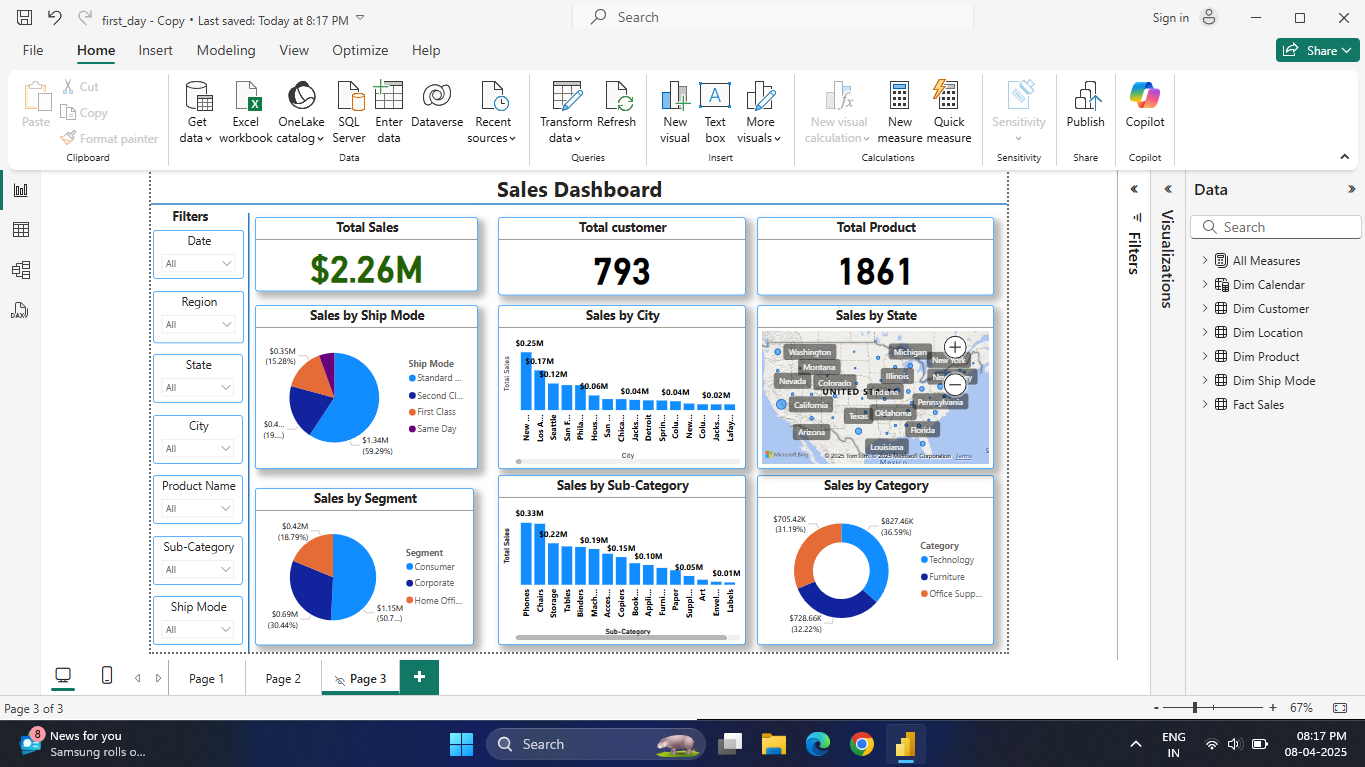

This screenshot's page, from the dashboard's own definition file:
{"tool":"powerbi","page":{"name":"Page 3","canvas":[1280,720],"ordinal":2},"visuals":[{"type":"shape","box":[0,44.8,1280,12],"z":0},{"type":"textbox","box":[481.9,0,316.2,57.8],"z":1000},{"type":"shape","box":[136.8,64.4,17.2,656.3],"z":2000},{"type":"textbox","box":[26.9,50.8,91.1,38.8],"z":3000},{"type":"slicer","title":"Date","fields":{"Values":["Dim Calendar.Year","Dim Calendar.Quarter"]},"box":[3,89.6,135.9,73.2],"z":4000},{"type":"slicer","title":"Region","fields":{"Values":["Dim Location.Region"]},"box":[3,180,135.9,77.7],"z":5000},{"type":"slicer","title":"State","fields":{"Values":["Dim Location.State"]},"box":[3,274.9,134.4,73.2],"z":6000},{"type":"slicer","title":"Product Name","fields":{"Values":["Dim Product.Product Name"]},"box":[3,455.6,134.4,73.2],"z":7000},{"type":"slicer","title":"City","fields":{"Values":["Dim Location.City"]},"box":[3,365.2,134.4,73.2],"z":8000},{"type":"slicer","title":"Ship Mode","fields":{"Values":["Dim Ship Mode.Ship Mode"]},"box":[3,636.3,134.4,73.2],"z":9000},{"type":"slicer","title":"Sub-Category","fields":{"Values":["Dim Product.Sub-Category"]},"box":[3,546,134.4,73.2],"z":10000},{"type":"card","title":"Total Sales","fields":{"Values":["All Measures.Total Sales"]},"box":[155.4,70.2,333.1,110.5],"z":11000},{"type":"card","title":"Total customer","fields":{"Values":["All Measures.Total Customer"]},"box":[519.1,70.2,370.5,116.5],"z":12000},{"type":"card","title":"Total Product","fields":{"Values":["All Measures.Total Product"]},"box":[905.2,70.2,354,116.5],"z":13000},{"type":"pieChart","title":"Sales by Ship Mode","fields":{"Y":["All Measures.Total Sales"],"Category":["Dim Ship Mode.Ship Mode"]},"box":[155.4,201.7,333.1,245],"z":14000},{"type":"clusteredColumnChart","title":"Sales by City","fields":{"Category":["Dim Location.Region","Dim Location.Country","Dim Location.State","Dim Location.City"],"Y":["All Measures.Total Sales"]},"box":[518.3,201.7,370.5,245],"z":15000},{"type":"pieChart","title":"Sales by Segment","fields":{"Category":["Dim Customer.Segment"],"Y":["All Measures.Total Sales"]},"box":[155.4,475,327.1,234.5],"z":16000},{"type":"donutChart","title":"Sales by Category","fields":{"Category":["Dim Product.Category"],"Y":["All Measures.Total Sales"]},"box":[905.2,455.6,354,253.9],"z":17000},{"type":"clusteredColumnChart","title":"Sales by Sub-Category","fields":{"Y":["All Measures.Total Sales"],"Category":["Dim Product.Sub-Category"]},"box":[518.3,455.6,370.5,253.9],"z":18000},{"type":"map","title":"Sales by State","fields":{"Category":["Dim Location.State"],"Size":["All Measures.Total Sales"]},"box":[905.2,201.7,354,245],"z":19000}]}

Visuals, with their boxes on the page's 1280x720 design canvas (x1, y1, x2, y2). These are canvas units, not pixel positions in the 1365x767 screenshot, which may show the page scaled, cropped or inside an application window:
shape: <region>0, 45, 1280, 57</region>
textbox: <region>482, 0, 798, 58</region>
shape: <region>137, 64, 154, 721</region>
textbox: <region>27, 51, 118, 90</region>
"Date" slicer: <region>3, 90, 139, 163</region>
"Region" slicer: <region>3, 180, 139, 258</region>
"State" slicer: <region>3, 275, 137, 348</region>
"Product Name" slicer: <region>3, 456, 137, 529</region>
"City" slicer: <region>3, 365, 137, 438</region>
"Ship Mode" slicer: <region>3, 636, 137, 710</region>
"Sub-Category" slicer: <region>3, 546, 137, 619</region>
"Total Sales" card: <region>155, 70, 488, 181</region>
"Total customer" card: <region>519, 70, 890, 187</region>
"Total Product" card: <region>905, 70, 1259, 187</region>
"Sales by Ship Mode" pieChart: <region>155, 202, 488, 447</region>
"Sales by City" clusteredColumnChart: <region>518, 202, 889, 447</region>
"Sales by Segment" pieChart: <region>155, 475, 482, 710</region>
"Sales by Category" donutChart: <region>905, 456, 1259, 710</region>
"Sales by Sub-Category" clusteredColumnChart: <region>518, 456, 889, 710</region>
"Sales by State" map: <region>905, 202, 1259, 447</region>
